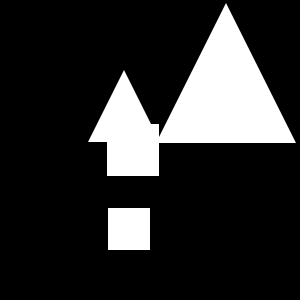circle: (107, 124, 159, 176), (108, 208, 150, 250)
triangle: (156, 3, 296, 143), (88, 70, 160, 142)
